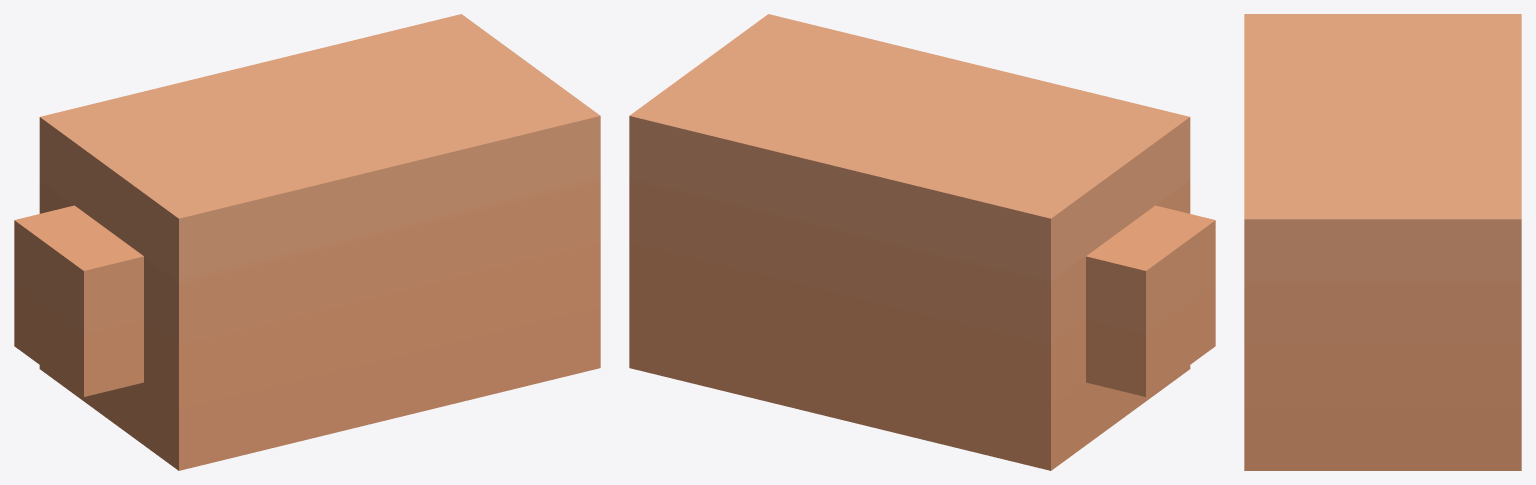
The model's file is Shoulder064.fbx.
The picture shows the model from 3 angles, left to right: view 1: azimuth 30°, elevation 25°; view 2: azimuth 150°, elevation 25°; view 3: azimuth 270°, elevation 25°; orthographic projection.
Parts seen in each view (by area): view 1: Shoulder064; view 2: Shoulder064; view 3: Shoulder064.
Part boxes in pixels (box(x1,y1,x2,y2)): Shoulder064: box(14, 14, 600, 470); Shoulder064: box(629, 14, 1215, 470); Shoulder064: box(1244, 14, 1521, 470).
Bounding box in the file's own units: 8 × 4 × 4.
